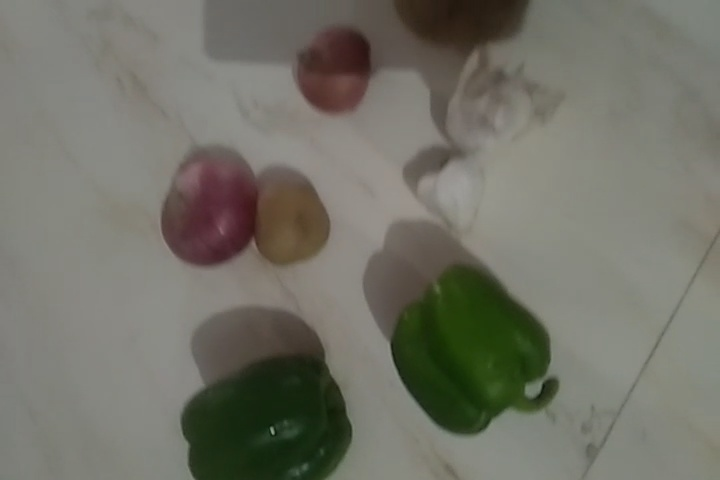capsicum: (397, 271, 552, 441), (179, 363, 356, 480)
garlic: (453, 67, 553, 157), (417, 157, 489, 231)
onion: (159, 150, 253, 268), (295, 28, 366, 116)
potato: (255, 159, 330, 270)
